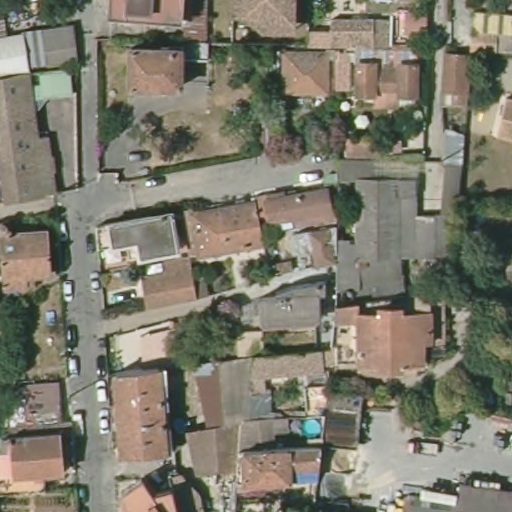pool: (300, 416, 324, 443)
